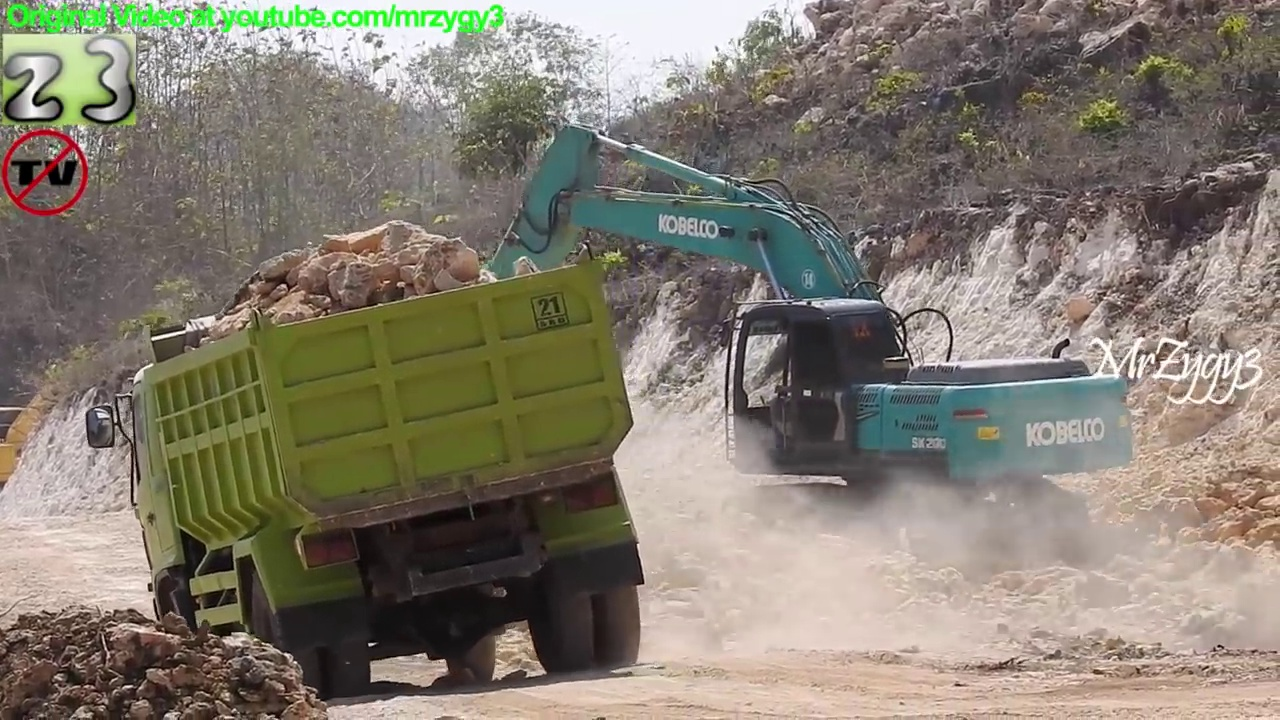excavator: (424, 119, 1146, 585), (1, 350, 79, 503)
truck: (81, 238, 667, 703)
